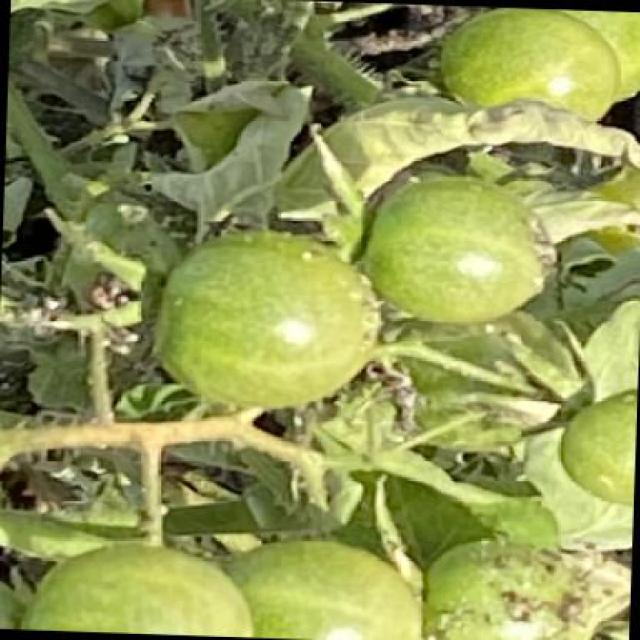unripe tomato: (141, 222, 381, 412), (358, 172, 553, 326), (437, 8, 623, 134), (12, 541, 255, 637), (222, 544, 429, 638), (431, 534, 612, 638), (555, 367, 637, 524)
